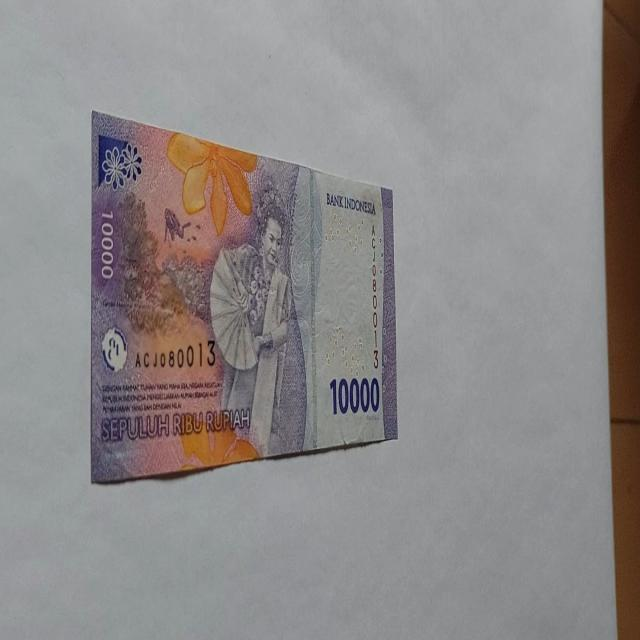sepuluh ribu rupiah: (89, 109, 398, 484)
